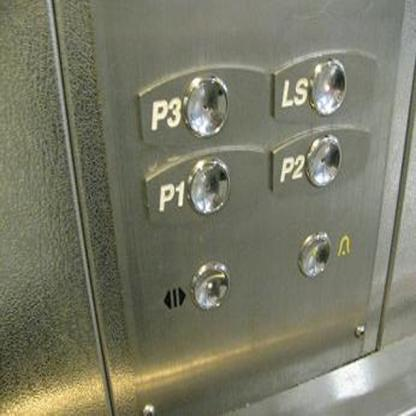LS: (270, 47, 379, 123)
P1: (142, 143, 269, 227)
P2: (267, 122, 375, 195)
P3: (132, 61, 270, 137)
alarm: (293, 222, 361, 282)
open: (147, 252, 232, 326)
